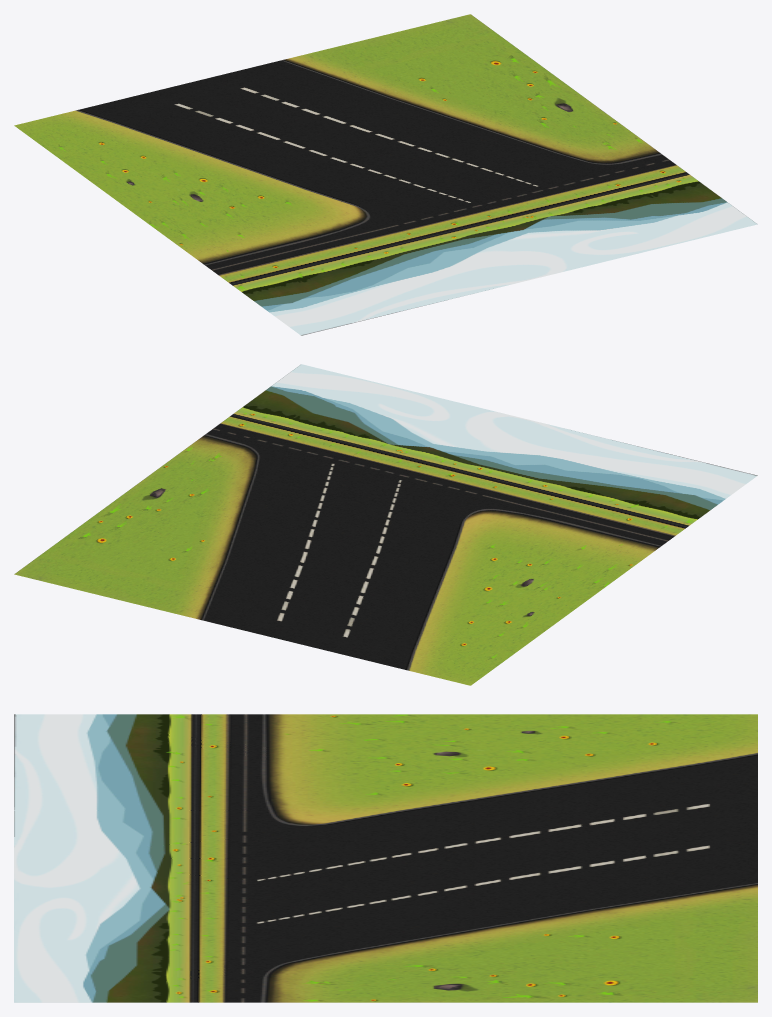
Rendered from ground.FBX.
3 views of the same model, one above another, from view 1: azimuth 30°, elevation 25°; view 2: azimuth 150°, elevation 25°; view 3: azimuth 270°, elevation 25° (orthographic). The views are drawn at different scales.
Parts seen in each view (by area): view 1: Object027; view 2: Object027; view 3: Object027.
Boxes of the visible parts, box(x1,y1,x2,y2) form: Object027: box(14, 14, 757, 335); Object027: box(14, 364, 757, 685); Object027: box(14, 714, 757, 1002).
Size of the model in its own units: 518 by 0.000194 by 564.
